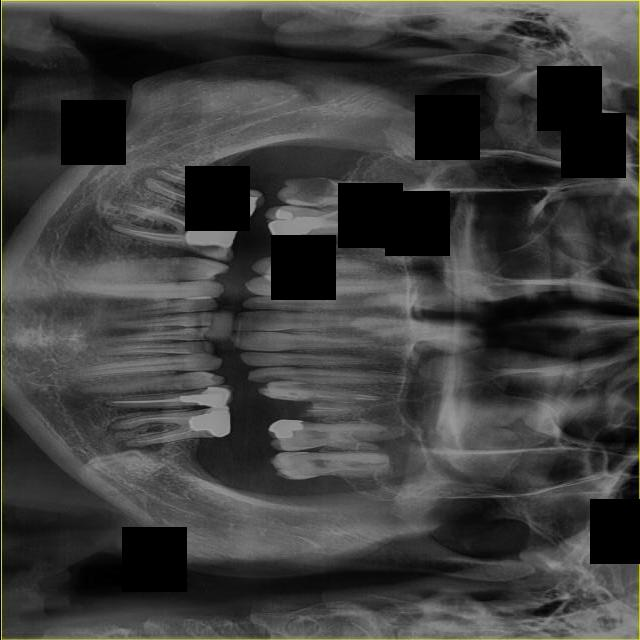72: (301, 400, 367, 418)
74: (128, 198, 191, 229), (318, 198, 377, 221), (152, 182, 203, 204), (120, 228, 185, 243), (163, 171, 209, 191), (136, 429, 191, 445), (127, 415, 191, 424), (112, 397, 181, 404), (323, 223, 370, 227), (356, 394, 383, 399), (354, 397, 379, 400)
NucleOSS Implant: (197, 186, 258, 226), (268, 213, 324, 246), (183, 216, 237, 249), (187, 408, 231, 441), (267, 418, 302, 439), (177, 393, 222, 406), (273, 208, 293, 221)
Sterngold Implant: (276, 175, 338, 205), (268, 255, 297, 270), (248, 376, 286, 384)
Straumann Implant: (257, 381, 313, 403)
Zimmer Implant: (203, 404, 232, 439), (199, 384, 233, 407)
